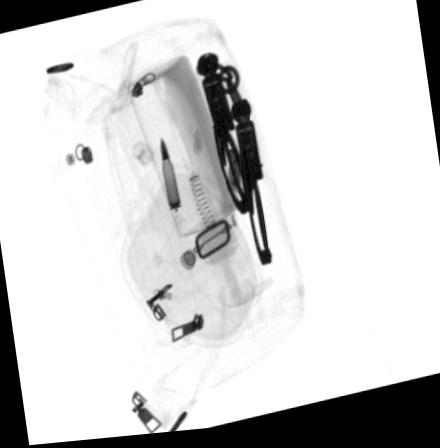Bullet: (159, 139, 182, 215)
HandCuffs: (195, 53, 275, 271)
